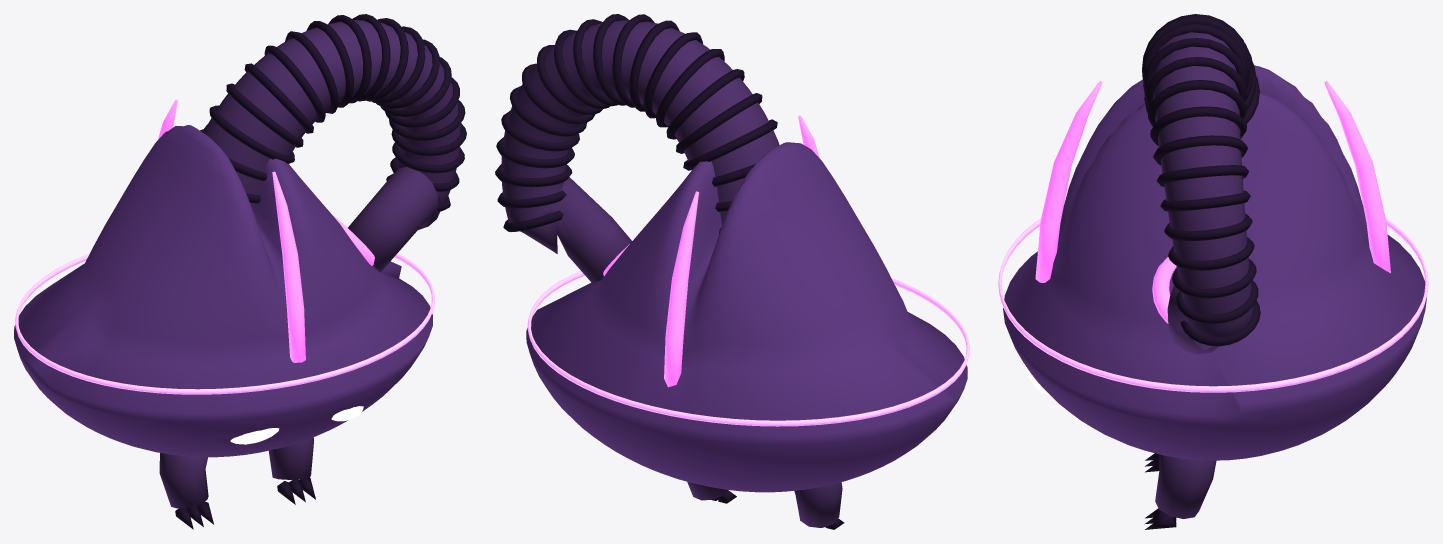
Rendered from bestiary.glb.
3 views of the same model, side by side, from view 1: azimuth 30°, elevation 25°; view 2: azimuth 150°, elevation 25°; view 3: azimuth 270°, elevation 25° (orthographic). The views are drawn at different scales.
Parts seen in each view (by area): view 1: projective, klein, projective_seam; view 2: projective, klein, projective_seam; view 3: projective, klein, projective_seam.
Part boxes in pixels (box(x1,y1,x2,y2)): projective: box(14, 124, 434, 457); klein: box(159, 14, 466, 529); projective_seam: box(158, 99, 305, 362); projective: box(526, 142, 969, 492); klein: box(495, 14, 844, 529); projective_seam: box(664, 115, 819, 387); projective: box(998, 65, 1428, 460); klein: box(1142, 14, 1260, 529); projective_seam: box(1035, 81, 1390, 282).
Bounding box in the file's own units: 1.25 × 1.27 × 0.9475.
